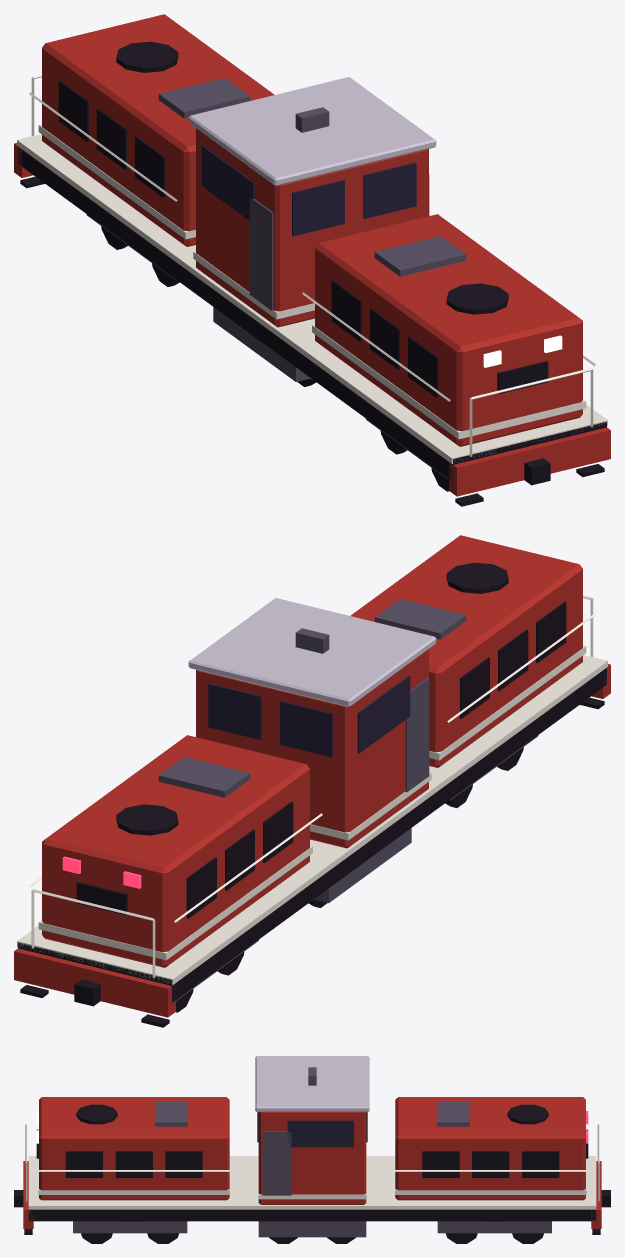
File: train_loco.glb
3 renders of one model, top to bottom at view 1: azimuth 30°, elevation 25°; view 2: azimuth 150°, elevation 25°; view 3: azimuth 270°, elevation 25°, orthographic. The views are drawn at different scales.
Visible parts, largest first — view 1: train_loco; view 2: train_loco; view 3: train_loco.
Part boxes in pixels (left/top/right/bottom): train_loco: left=14, top=14, right=610, bottom=506; train_loco: left=14, top=535, right=610, bottom=1027; train_loco: left=14, top=1056, right=610, bottom=1243.
Size of the model in its own units: 2.95 by 4.28 by 14.4.
